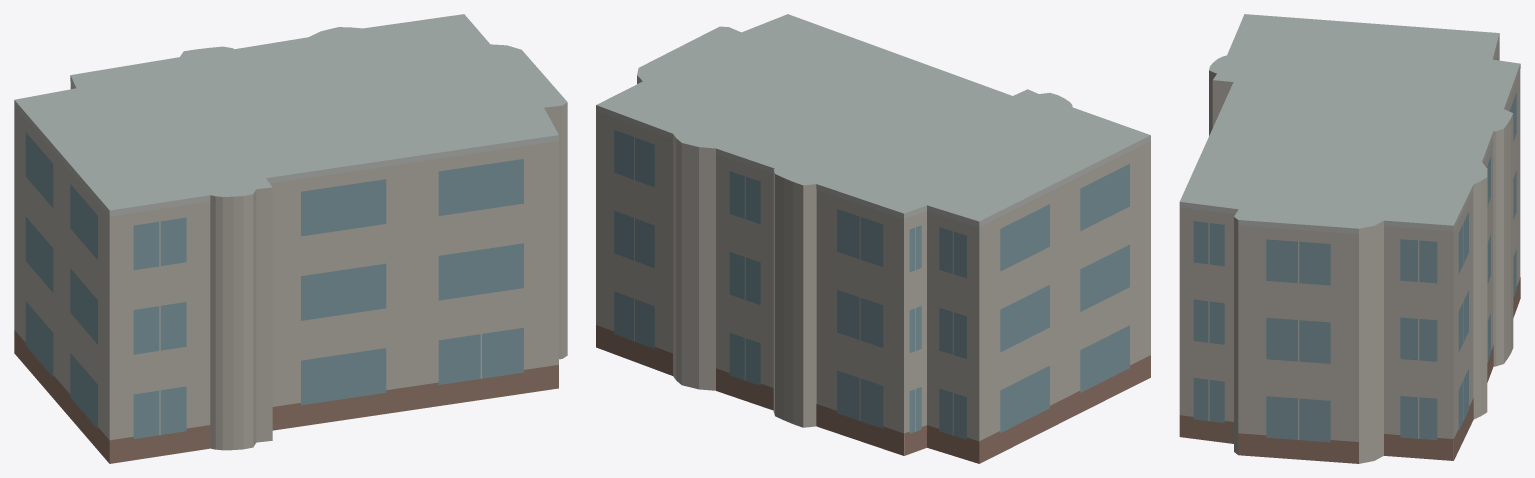
File: survey-upis-33004257.glb
The picture shows the model from 3 angles, left to right: view 1: azimuth 30°, elevation 25°; view 2: azimuth 150°, elevation 25°; view 3: azimuth 270°, elevation 25°; orthographic projection. The views are drawn at different scales.
Visible parts, largest first — view 1: survey-upis-33004257.tmp; view 2: survey-upis-33004257.tmp; view 3: survey-upis-33004257.tmp.
Boxes of the visible parts, x1,y1,x2,y2 form: survey-upis-33004257.tmp: (14,14,567,463); survey-upis-33004257.tmp: (596,14,1150,463); survey-upis-33004257.tmp: (1179,14,1520,463).
Bounding box in the file's own units: 20.36 × 10.4 × 13.67.
